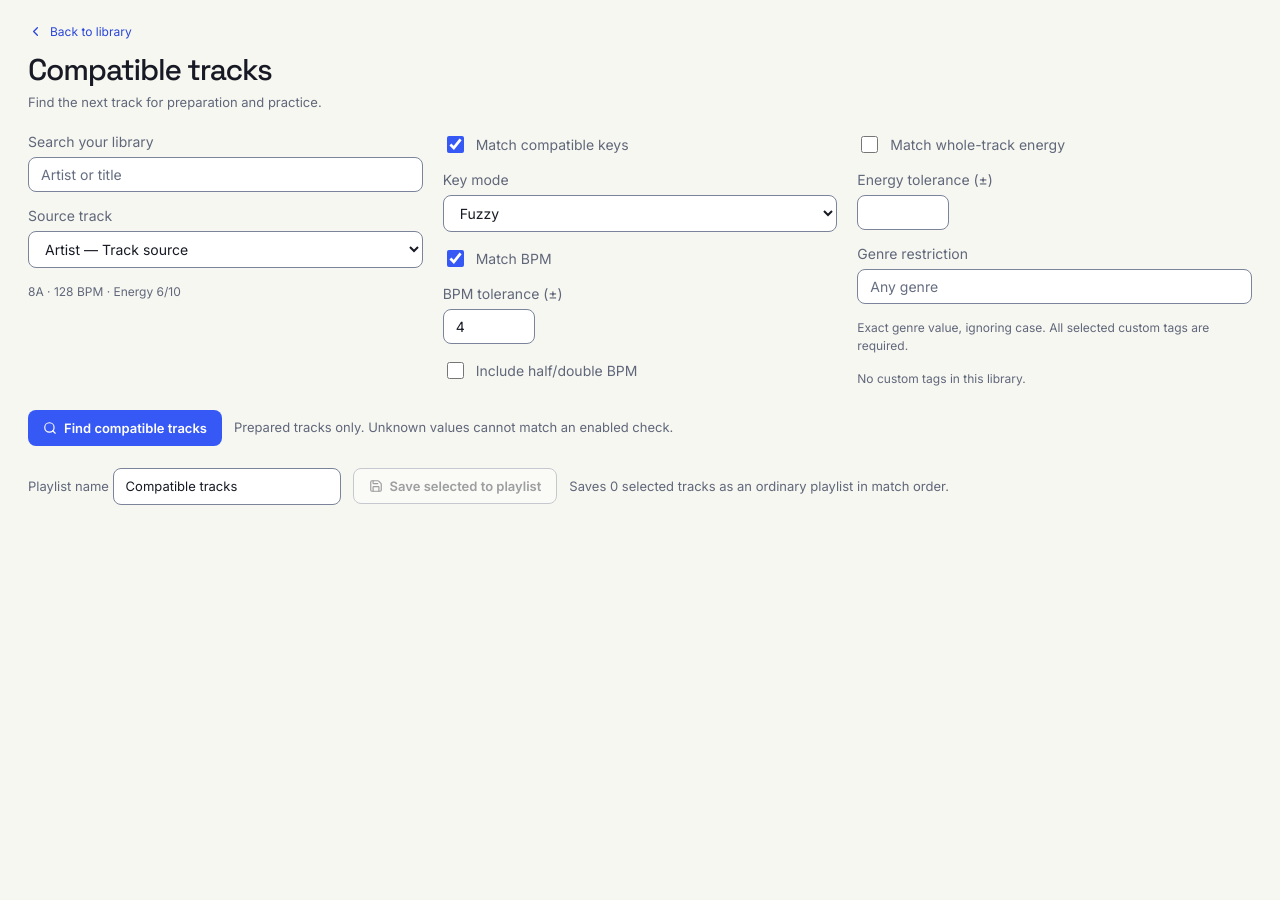
Compatible tracks › does not save a preview after the library revision has changed
Click the button "Find compatible tracks".
click(125, 428)  # box [28, 410, 222, 446]
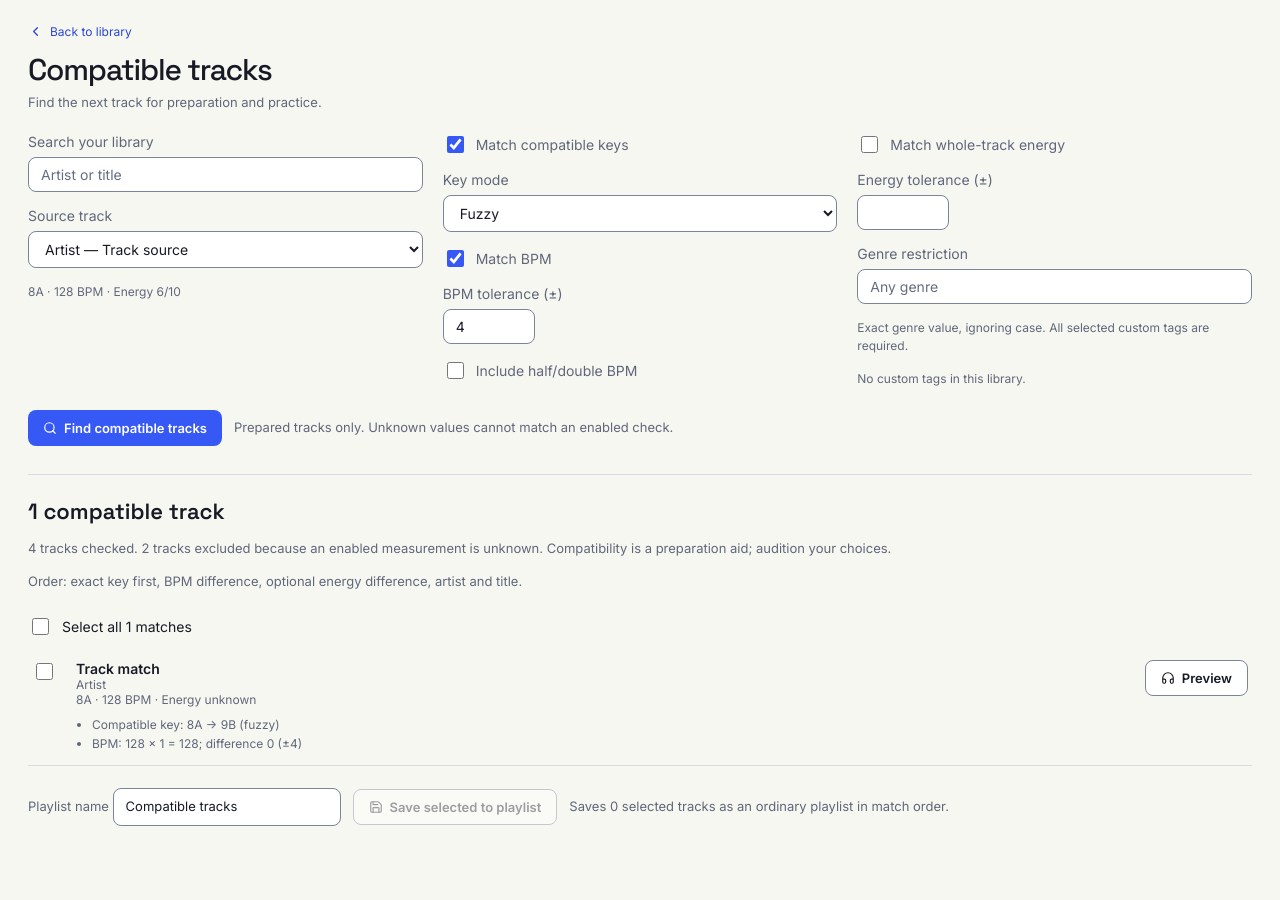
expect the list item "Compatible key: 8A → 9B (fuzzy)" is shown: met, box [92, 717, 280, 732]
Click the checkbox named "Select Track match".
click(44, 672)  # box [36, 663, 53, 680]
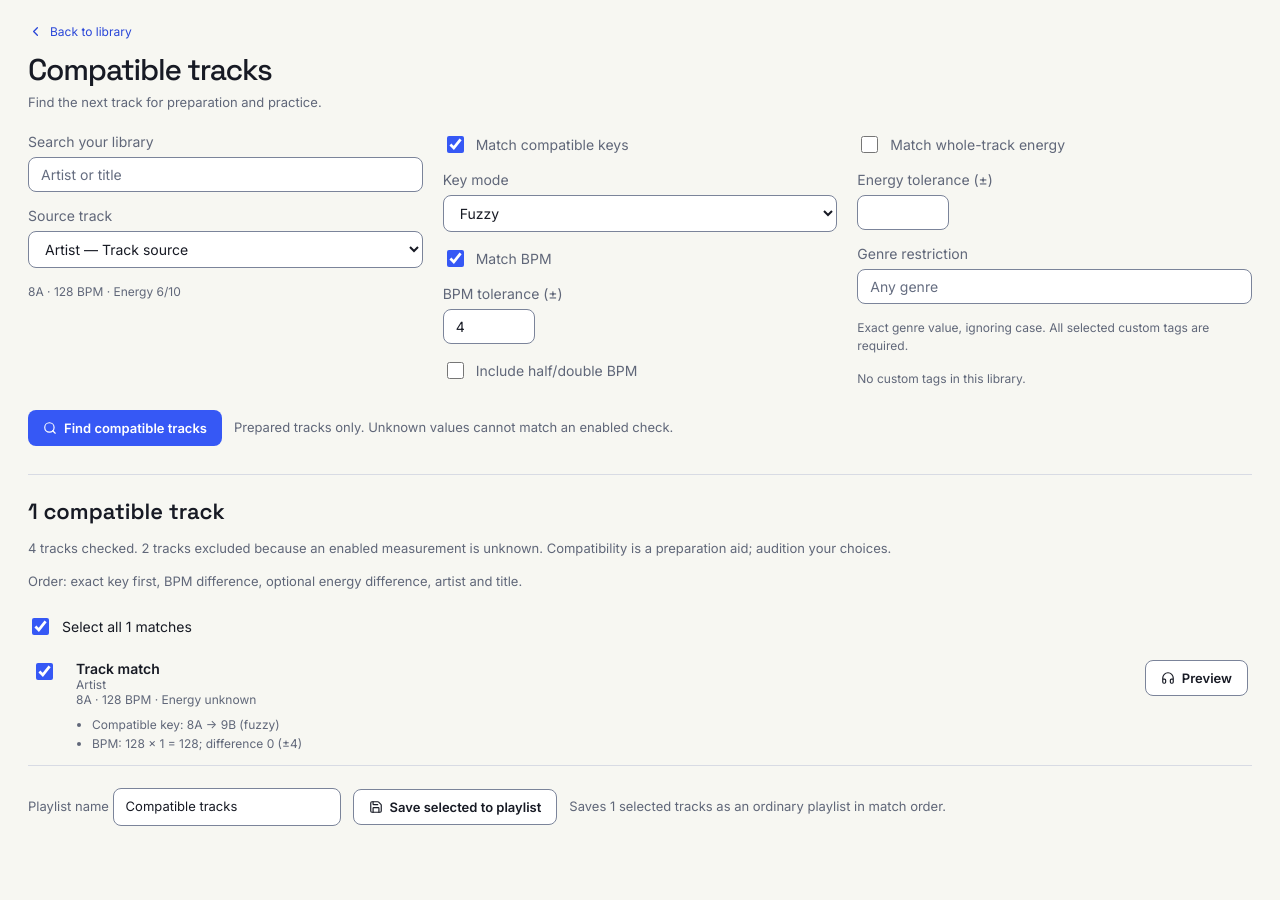
Click the button "Save selected to playlist".
click(455, 807)  # box [353, 789, 557, 825]
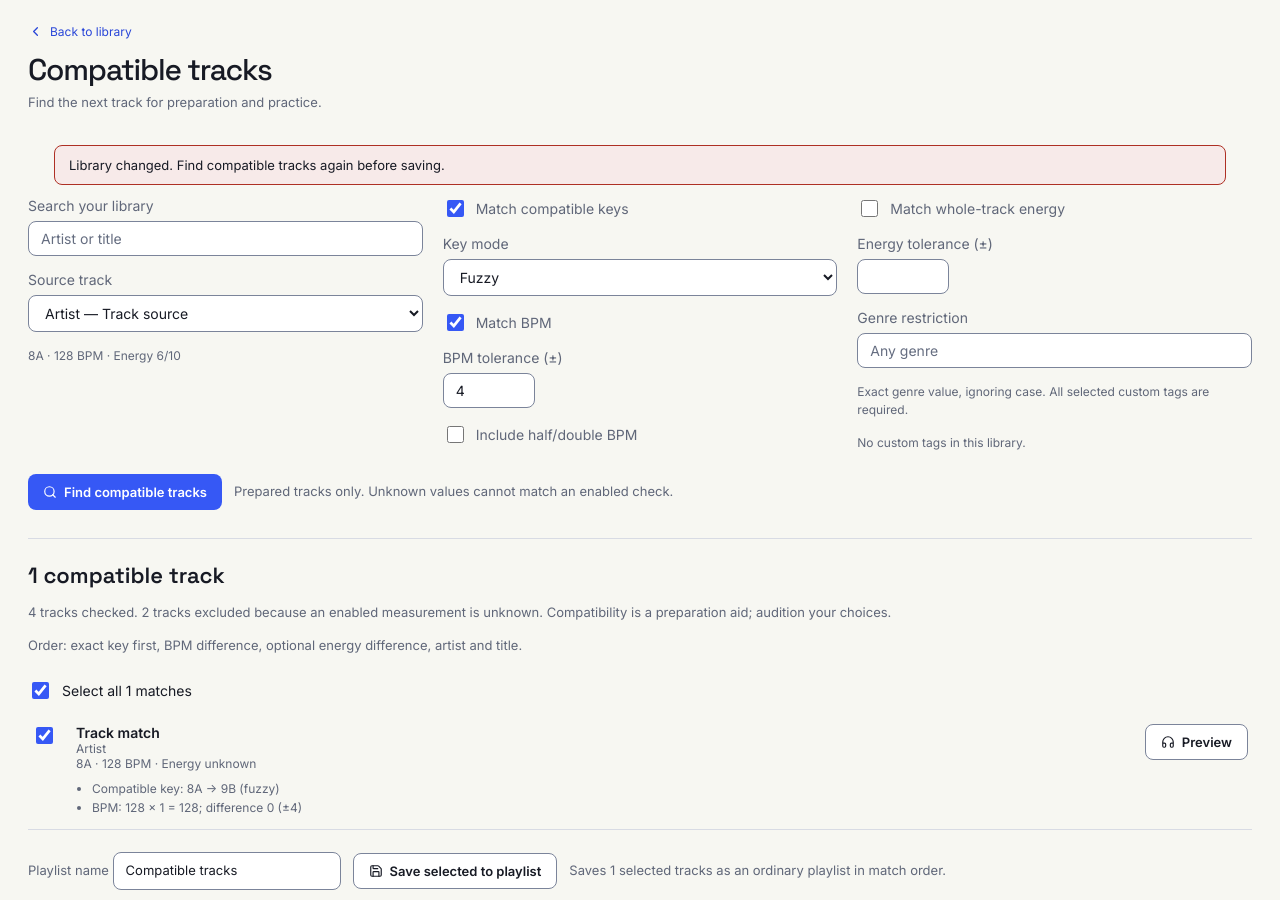
expect the message "Library changed. Find compatible tracks again before saving." is shown: met, box [54, 144, 1226, 184]
expect the message shows "Library changed": met, box [69, 156, 445, 172]
